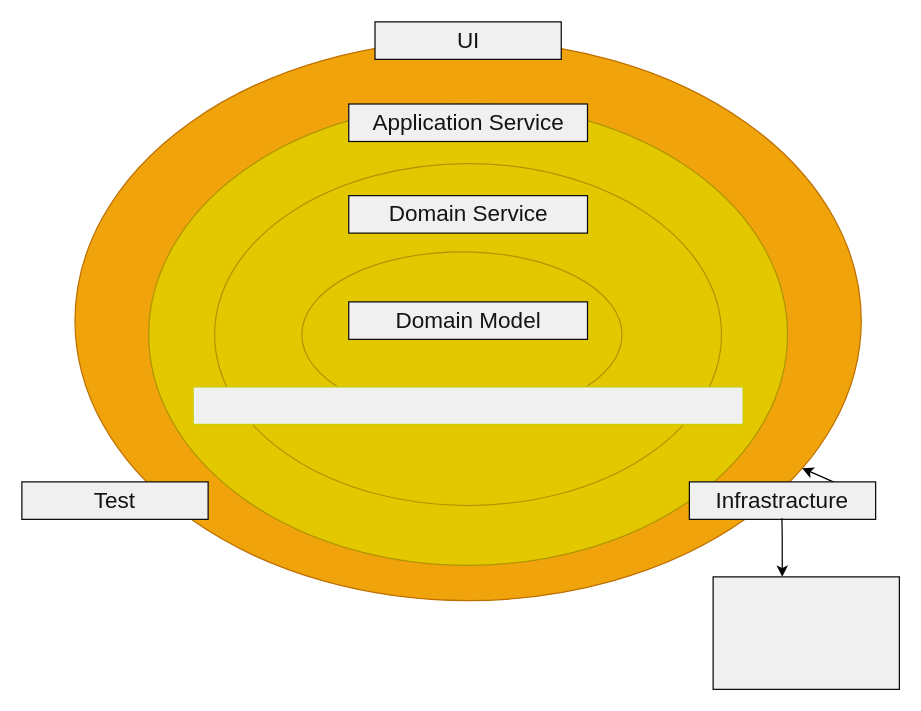
Some shapes in this 921 by 711 pixel diagram are drawn without their labels. The centre of each missing label's shape, as x and y in pixels:
"Application Core" goes at pixel 467 405.
"・web server ・DB ・File" goes at pixel 805 632.
